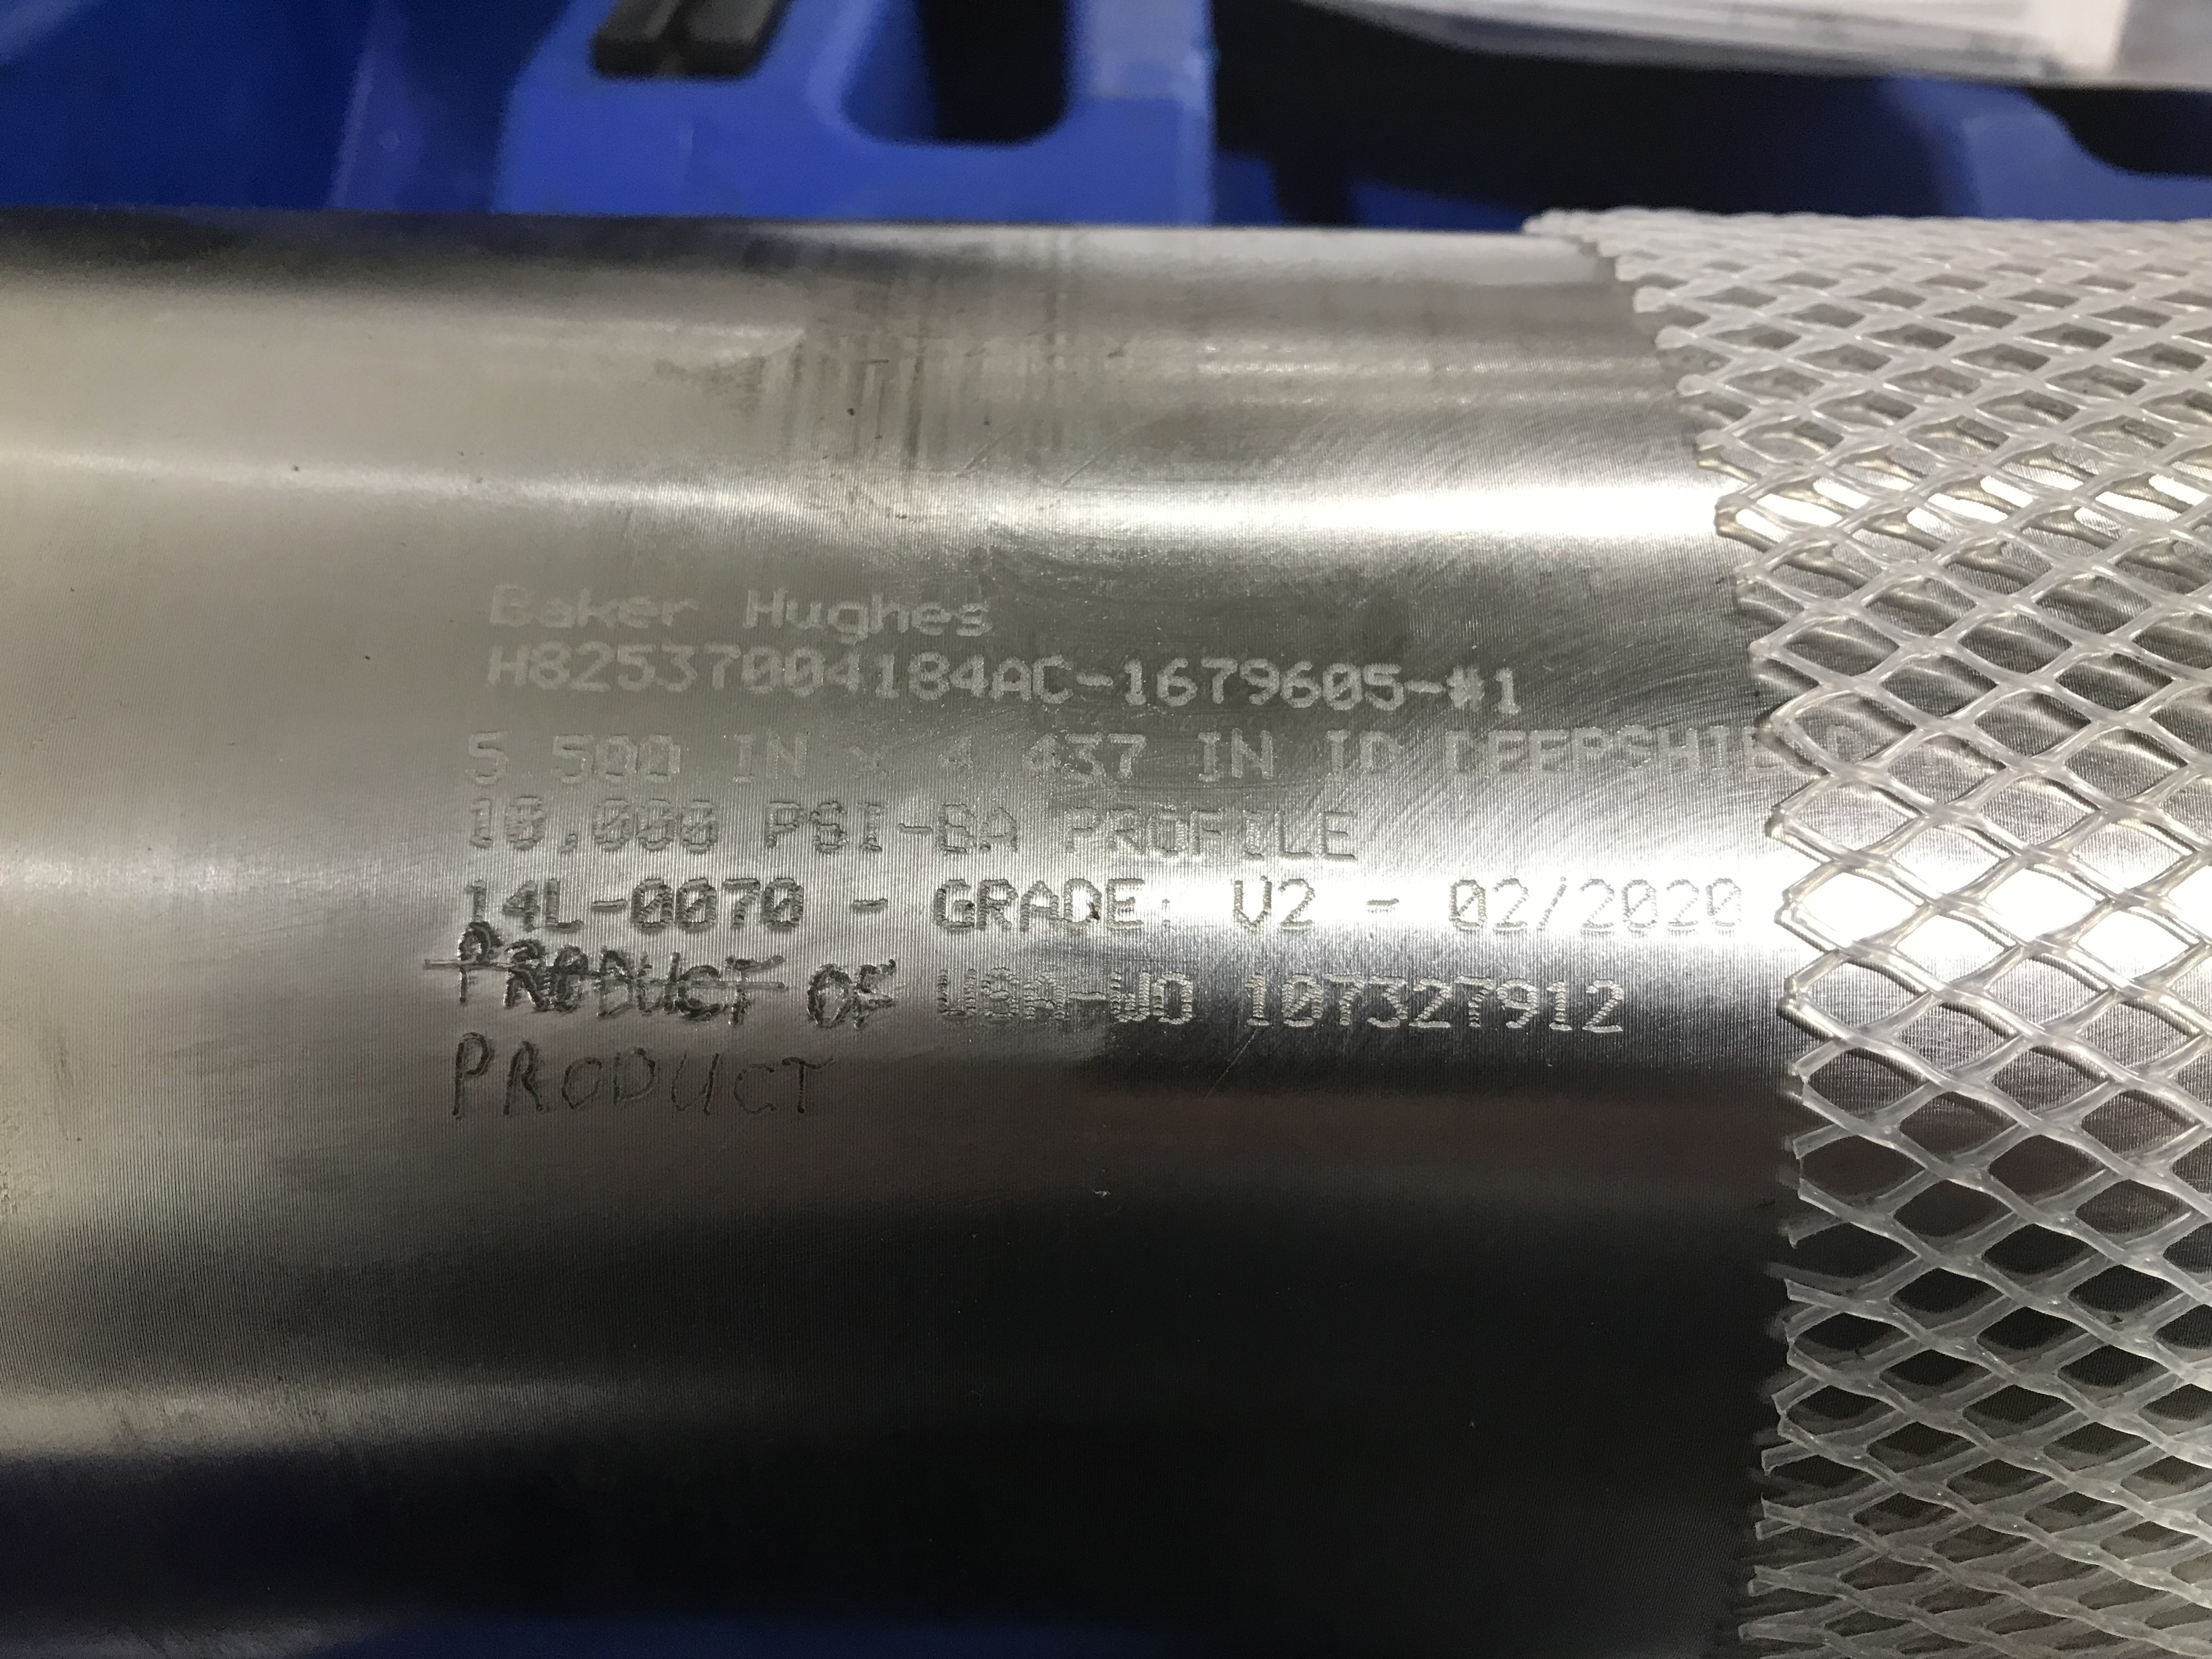character: (495, 1032, 552, 1121), (446, 1025, 495, 1124), (777, 1053, 840, 1129), (610, 1042, 665, 1119), (726, 1056, 782, 1129), (1271, 969, 1327, 1042), (672, 1046, 723, 1122), (928, 958, 981, 1032), (556, 1042, 604, 1119), (1101, 964, 1153, 1035), (477, 577, 536, 638), (763, 870, 812, 943), (1568, 716, 1611, 795), (1435, 725, 1487, 789), (1062, 727, 1109, 798), (1235, 964, 1278, 1040), (1014, 868, 1059, 941), (1583, 972, 1632, 1040), (545, 727, 599, 788), (1268, 795, 1315, 864), (1104, 721, 1150, 793), (1103, 871, 1148, 943), (1655, 716, 1700, 788), (1703, 871, 1749, 943), (1150, 967, 1198, 1033), (1407, 969, 1456, 1035), (759, 727, 813, 786), (1226, 723, 1278, 784), (1320, 962, 1366, 1032), (1494, 978, 1543, 1042), (981, 962, 1021, 1040), (1355, 728, 1409, 786), (927, 877, 977, 938), (970, 873, 1021, 934), (1019, 727, 1064, 795), (1451, 967, 1496, 1035), (465, 723, 514, 786), (500, 793, 549, 856), (1062, 866, 1104, 939), (571, 577, 618, 641), (592, 795, 639, 859), (1524, 721, 1571, 786), (1609, 723, 1656, 788), (1230, 871, 1277, 936), (1101, 802, 1150, 863), (1188, 800, 1231, 868), (573, 638, 620, 701), (1022, 965, 1069, 1028), (636, 730, 686, 788), (1029, 650, 1078, 709), (1662, 871, 1705, 938), (1143, 805, 1190, 866), (1237, 655, 1284, 716), (655, 638, 702, 697), (1366, 969, 1407, 1035), (827, 645, 873, 706), (676, 796, 721, 857), (1446, 875, 1491, 936), (806, 798, 850, 861), (631, 873, 674, 934), (975, 805, 1029, 854), (615, 582, 662, 638), (672, 878, 719, 934), (1491, 873, 1533, 936), (1615, 877, 1662, 932), (906, 648, 951, 706), (1155, 655, 1200, 713), (1197, 648, 1237, 713), (1534, 871, 1575, 936), (613, 638, 657, 697), (634, 796, 678, 856), (761, 795, 805, 854), (989, 655, 1031, 716), (843, 741, 899, 786), (719, 873, 759, 936), (1486, 723, 1526, 786), (782, 645, 826, 702), (542, 875, 583, 934), (531, 638, 573, 695), (596, 732, 637, 789), (1191, 727, 1230, 789), (1318, 802, 1360, 859), (484, 641, 531, 692), (1580, 871, 1616, 936), (827, 596, 869, 652), (869, 582, 911, 638), (932, 802, 974, 857), (1322, 721, 1355, 791), (700, 638, 740, 695), (1280, 875, 1320, 932), (500, 875, 542, 929), (726, 727, 761, 791), (855, 796, 890, 861), (951, 650, 991, 706), (740, 584, 789, 629), (744, 645, 782, 702), (1062, 805, 1101, 863), (1543, 974, 1576, 1040), (1707, 714, 1735, 793), (467, 878, 503, 936), (540, 589, 578, 643), (662, 589, 707, 634), (1118, 653, 1153, 711), (1231, 800, 1266, 857), (911, 598, 953, 645), (953, 598, 995, 645), (787, 598, 829, 641), (871, 647, 902, 704), (467, 795, 496, 854), (841, 894, 890, 924), (1366, 892, 1402, 922), (1073, 667, 1116, 692), (895, 819, 932, 843)
